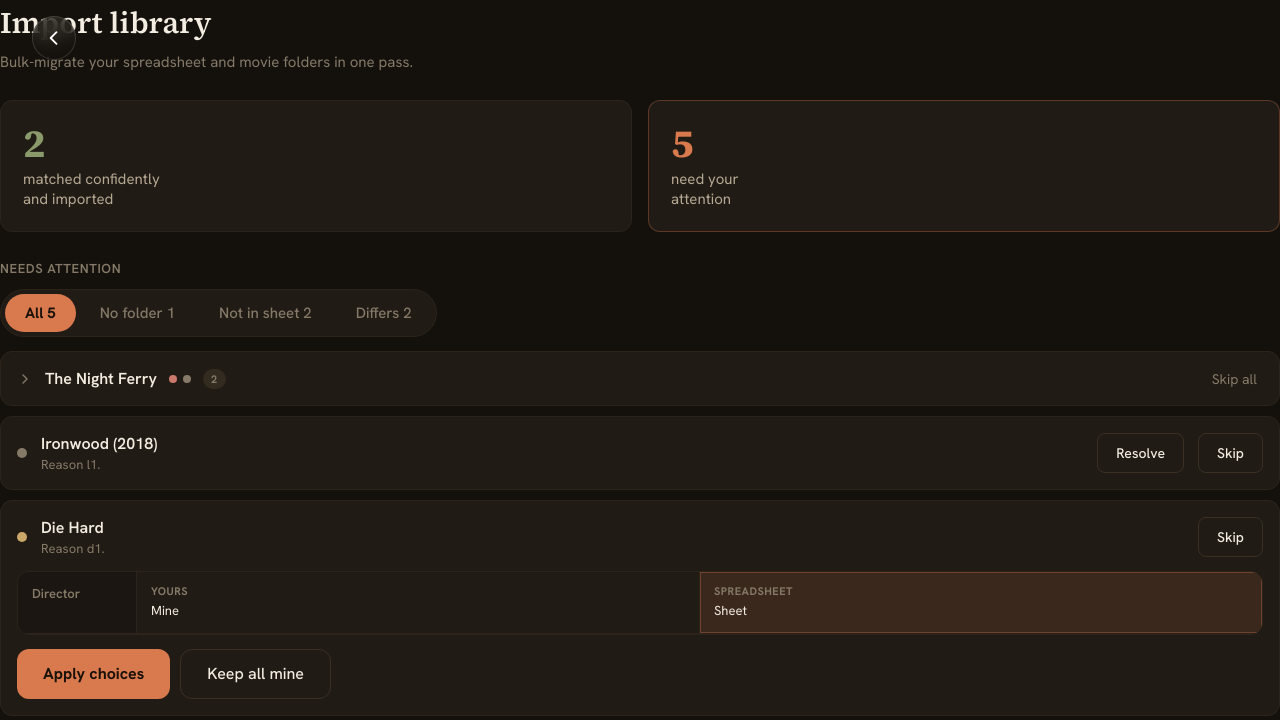
Test: ImportFlow — Skip all beside a chosen kind › posts the kind’s ids and redraws from the echo
Expected: the text "Needs attention" is shown, [0,260,121,277]
Click the button "Not in sheet 2": (265, 313) [199,294,332,332]
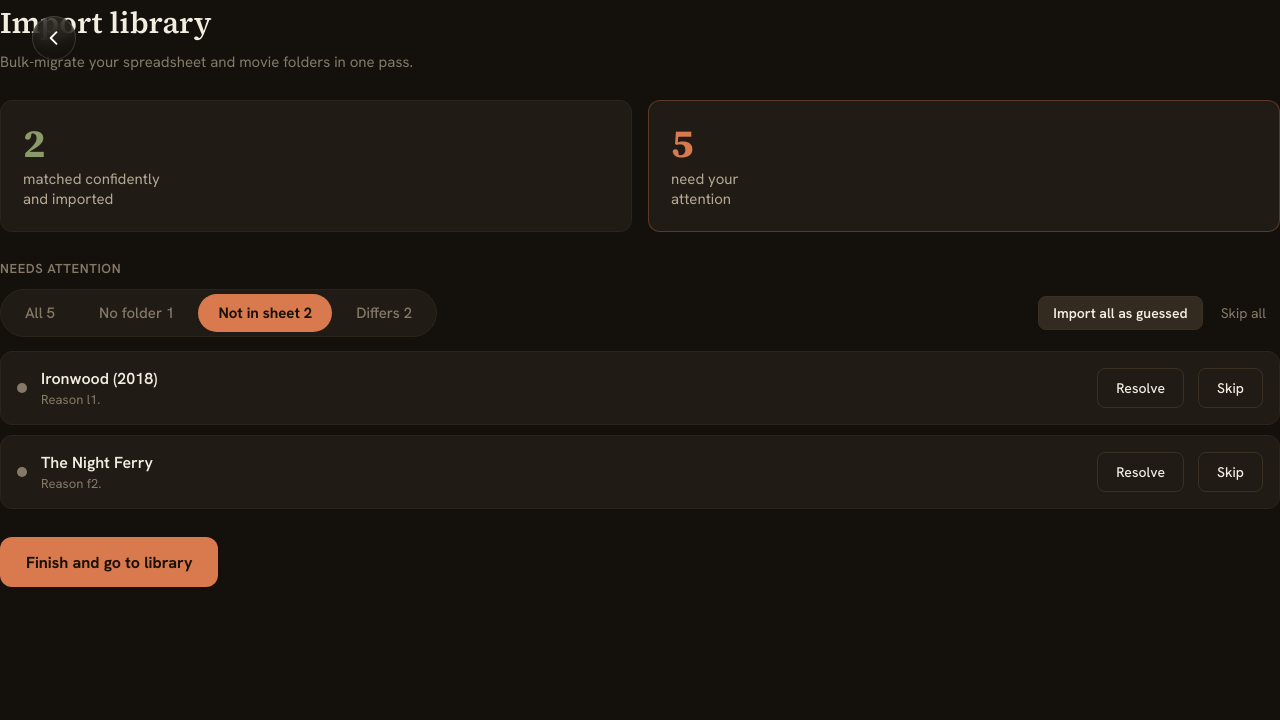
Click the button "Skip all": (1243, 313) [1207,296,1279,330]
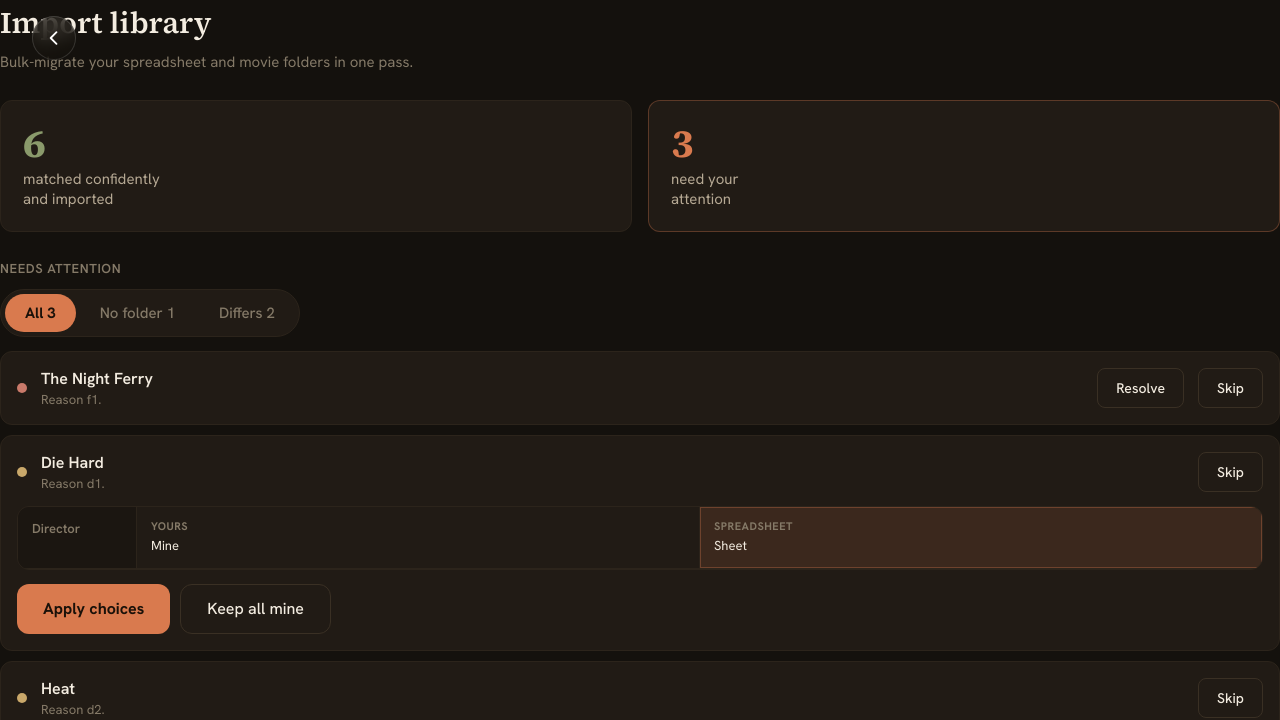
Now the text "Reason l1." is gone
Now the text "Reason f2." is gone
